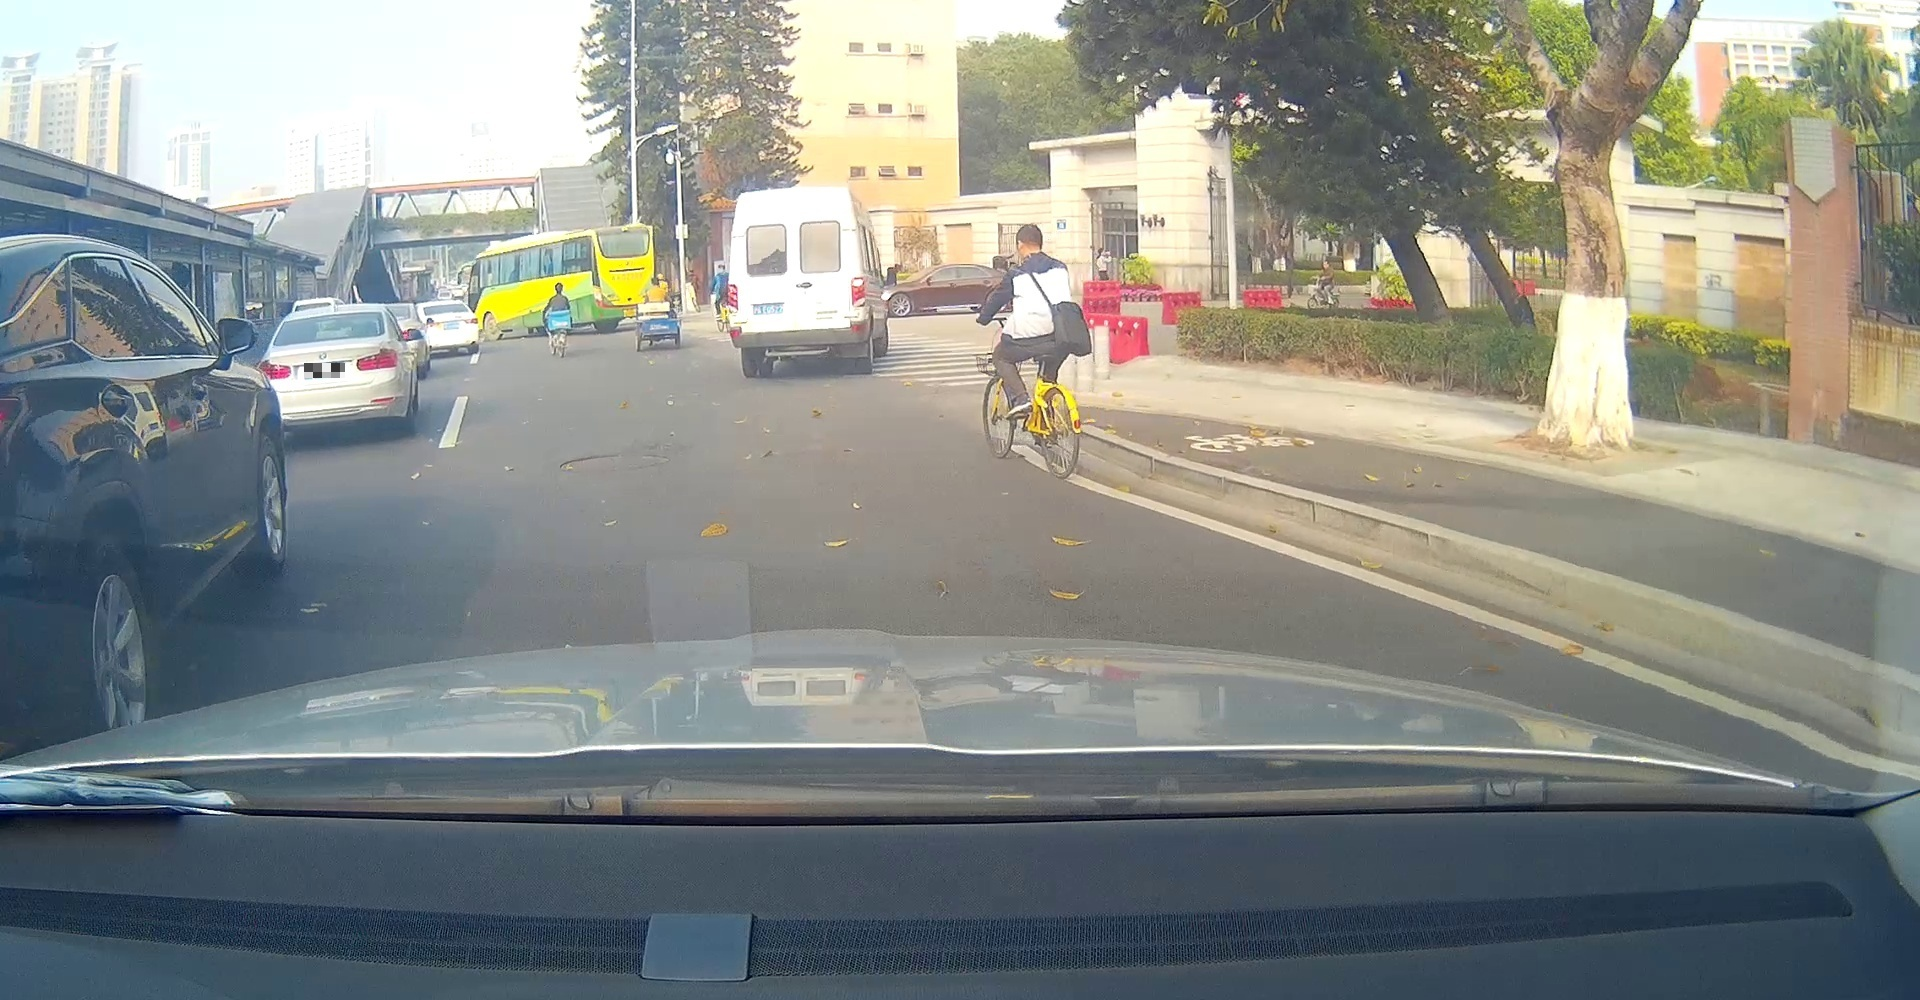L_light: (259, 359, 292, 379), (728, 283, 739, 313), (428, 322, 441, 327)
R_light: (356, 348, 397, 371), (851, 277, 866, 307), (463, 319, 477, 324)
T_light: (781, 193, 806, 198), (319, 316, 342, 320), (439, 305, 450, 307)
day-no: (728, 183, 869, 376), (257, 303, 408, 437), (415, 299, 479, 355)
plate_1: (303, 363, 345, 378)
